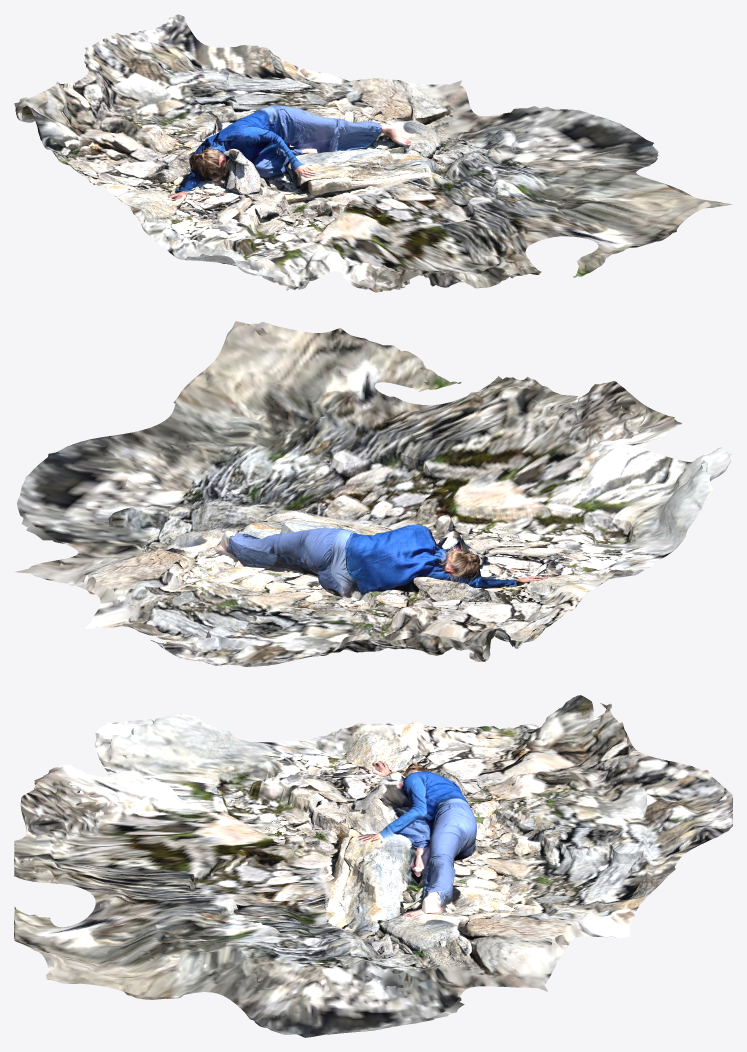
The picture shows the model from 3 angles, top to bottom: view 1: azimuth 30°, elevation 25°; view 2: azimuth 150°, elevation 25°; view 3: azimuth 270°, elevation 25°; orthographic projection. The views are drawn at different scales.
Parts seen in each view (by area): view 1: Object_2; view 2: Object_2; view 3: Object_2.
Part boxes in pixels (x1=…): Object_2: x1=14, y1=14, x2=732, y2=292; Object_2: x1=14, y1=321, x2=732, y2=666; Object_2: x1=14, y1=695, x2=732, y2=1037.
Size of the model in its own units: 3.7 by 0.5284 by 4.18.
1 material, 1 textured.
